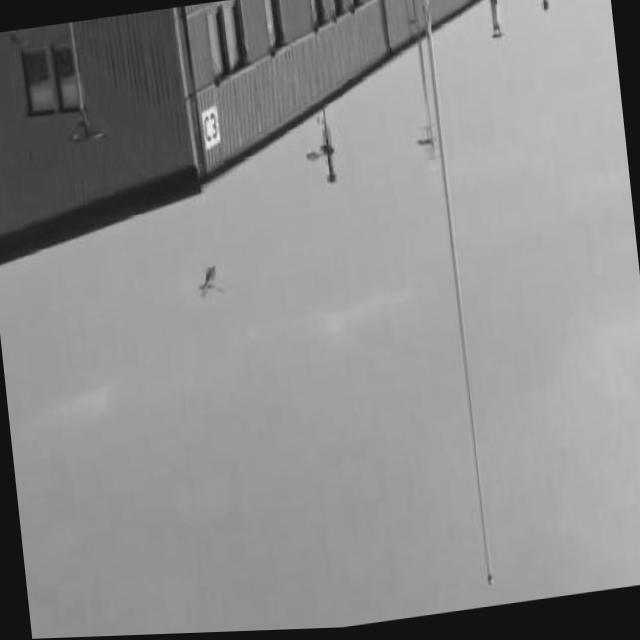helikopter: (185, 251, 232, 312)
